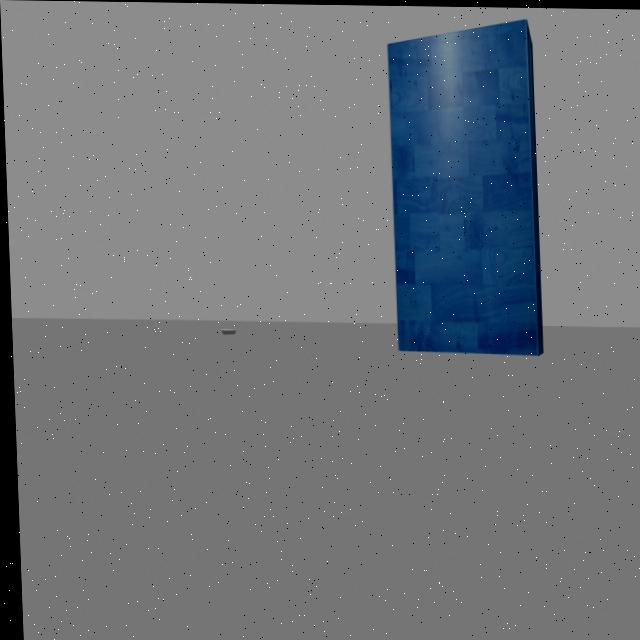bowl: (217, 322, 238, 340)
shelf: (372, 4, 553, 376)
